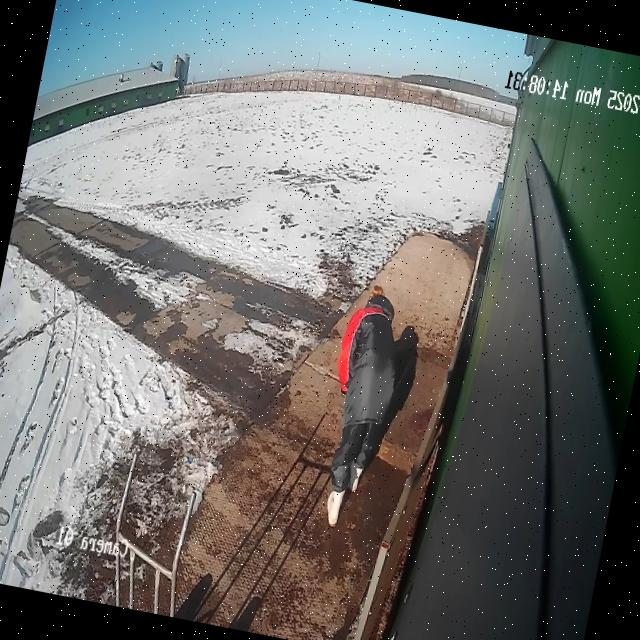Red uniform: (327, 294, 418, 525)
